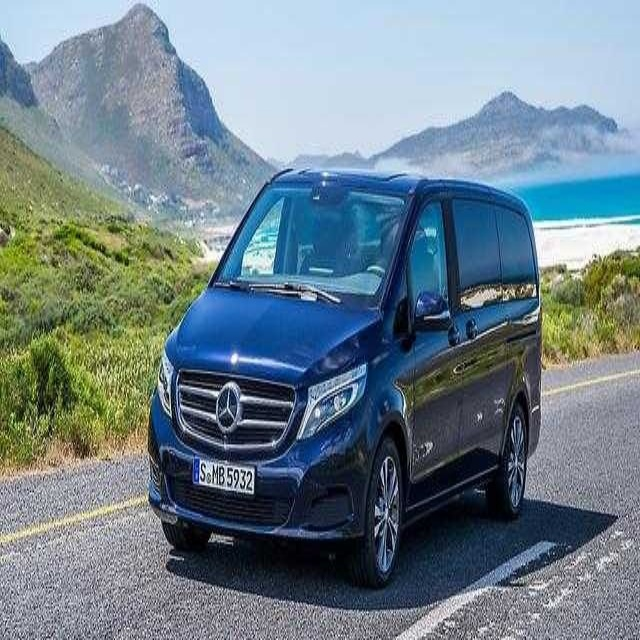Van: (145, 164, 542, 592)
